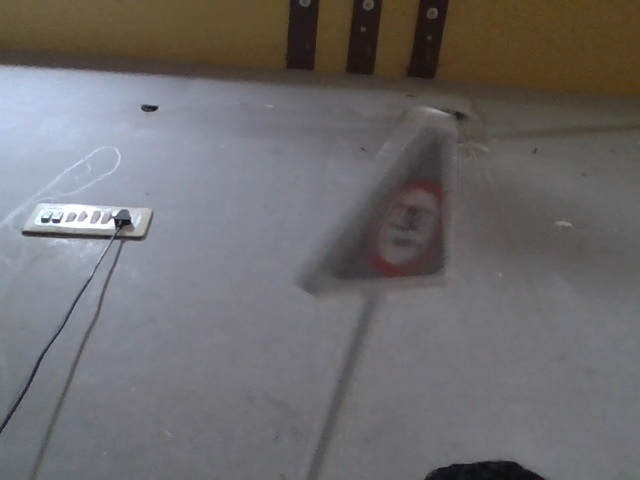speedlimit: (268, 108, 456, 293)
